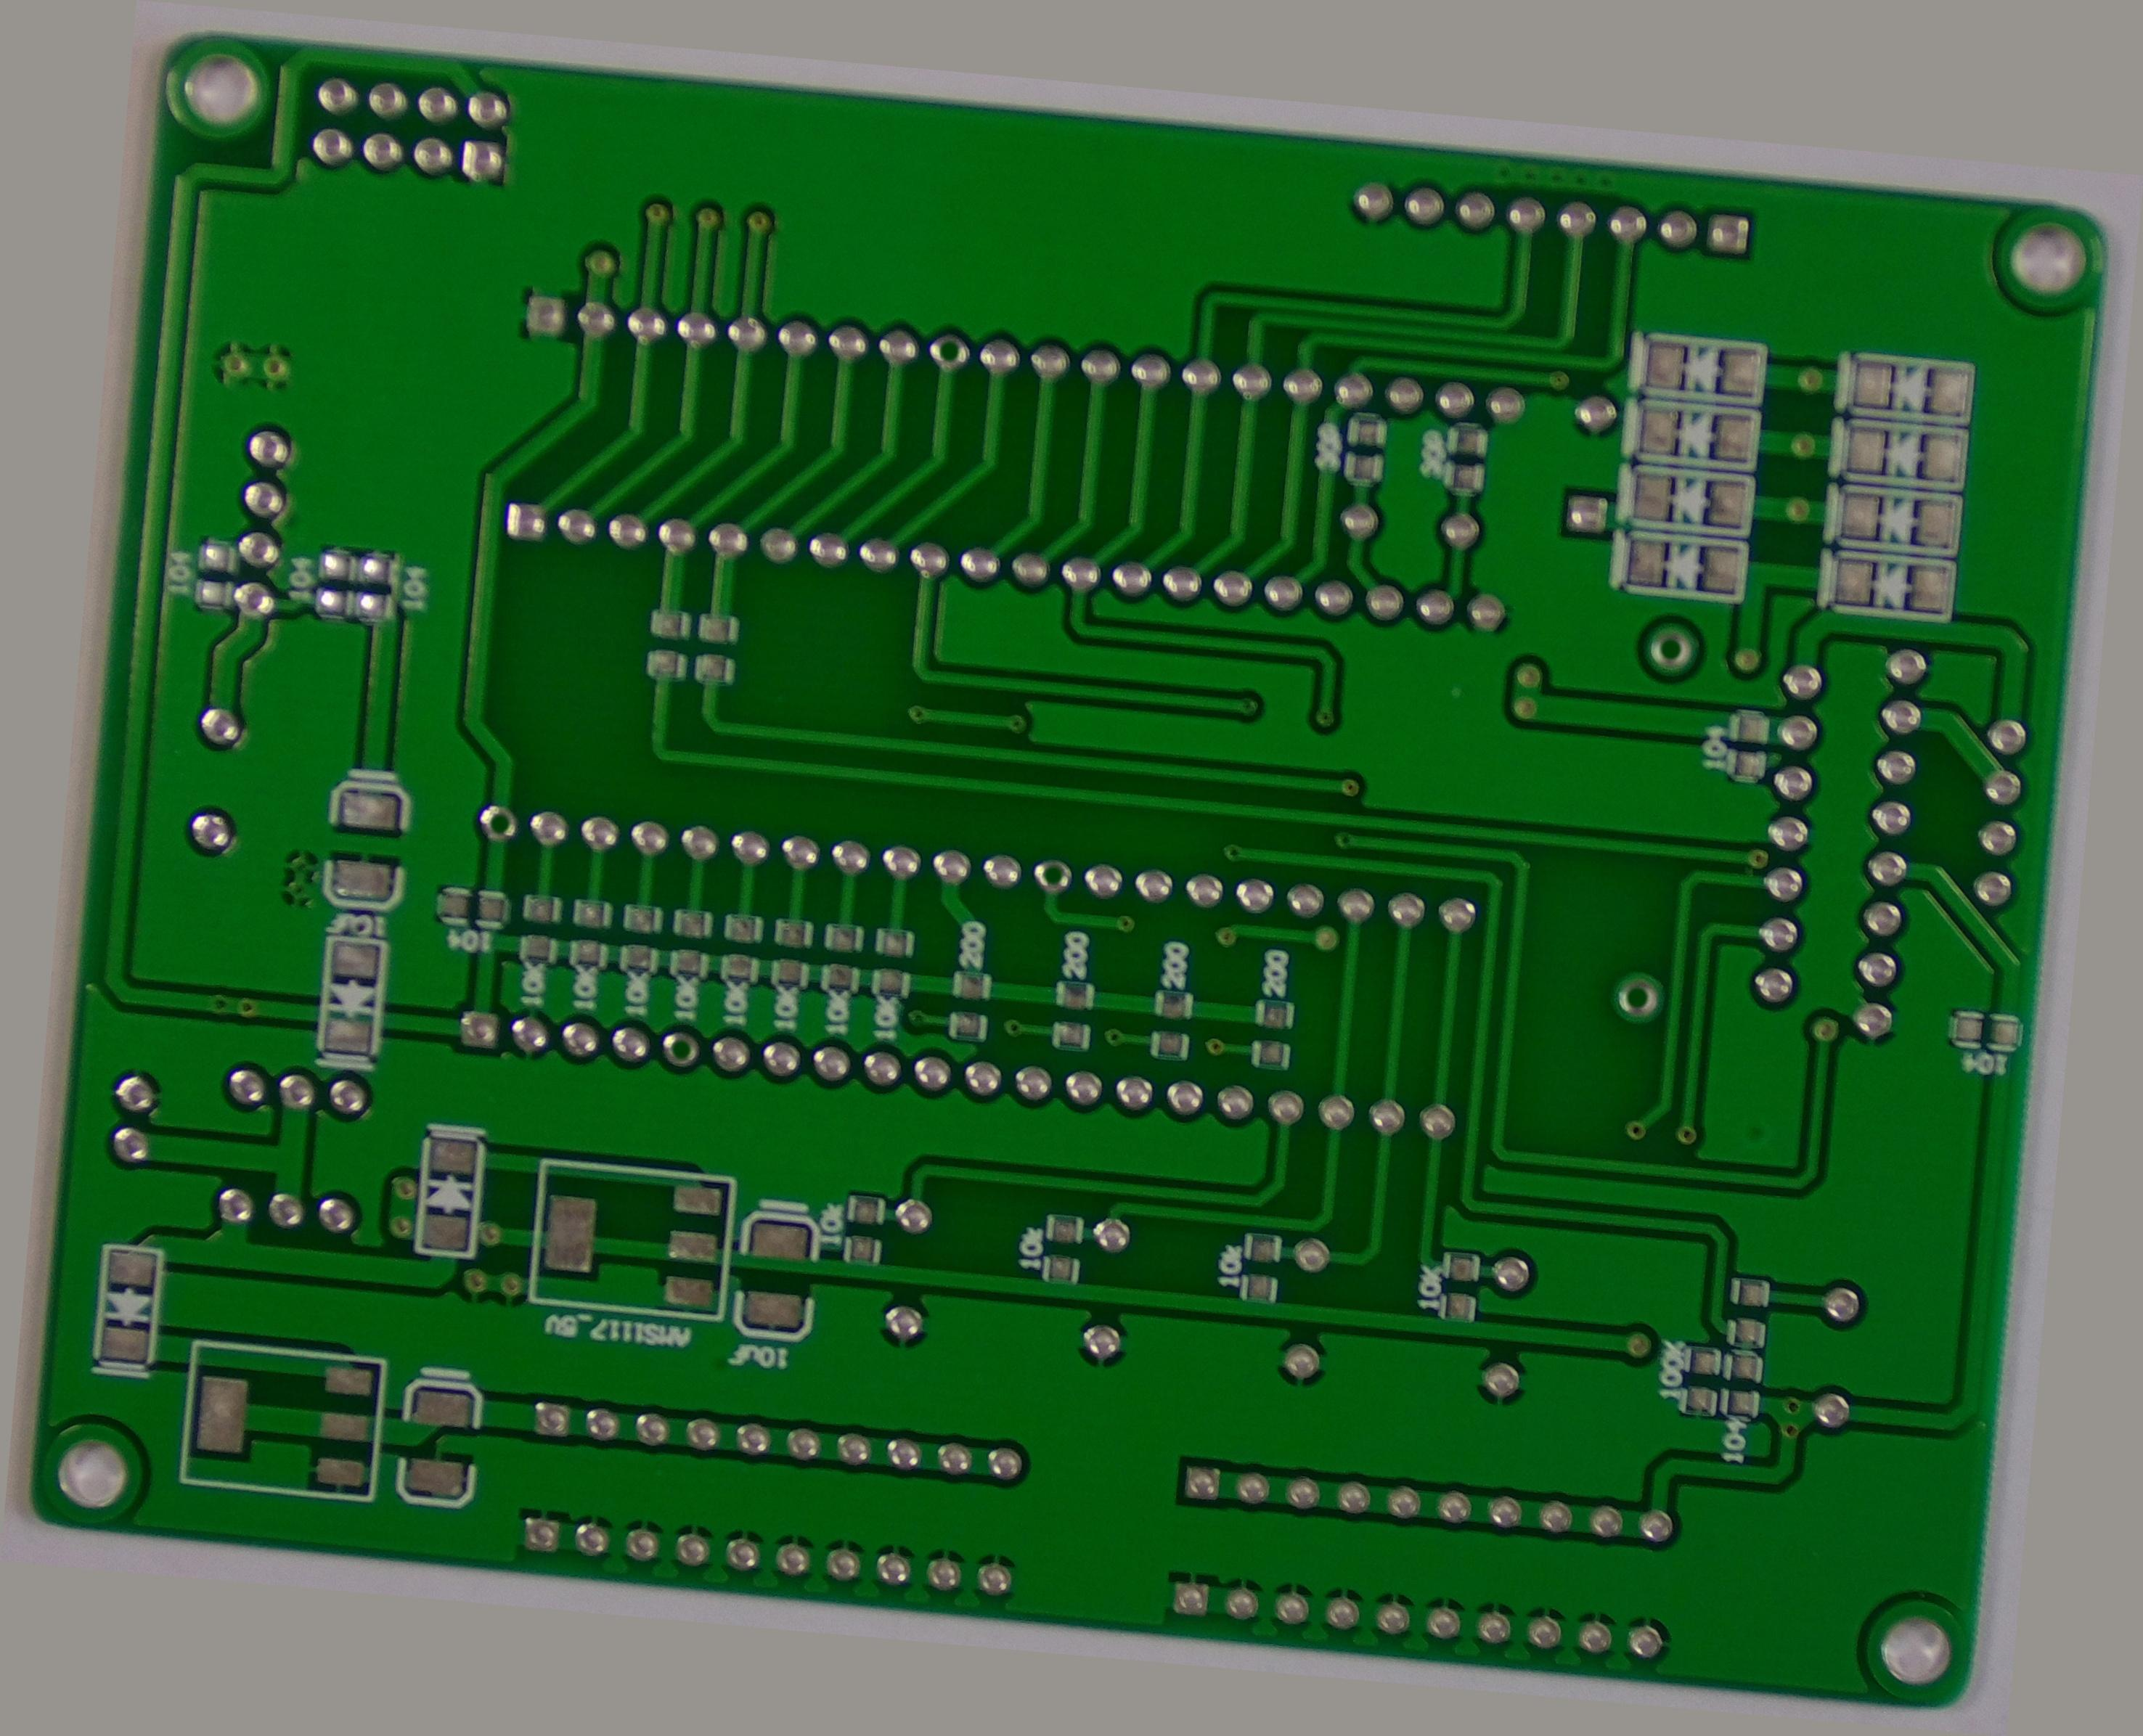missing_hole: (1658, 926, 1707, 983), (1025, 850, 1077, 903), (1659, 540, 1709, 593), (864, 285, 921, 331), (652, 1077, 698, 1132), (437, 850, 482, 898)
